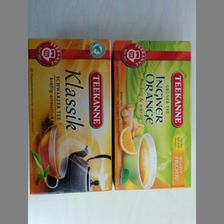tea: (28, 37, 114, 196), (113, 39, 193, 190)
